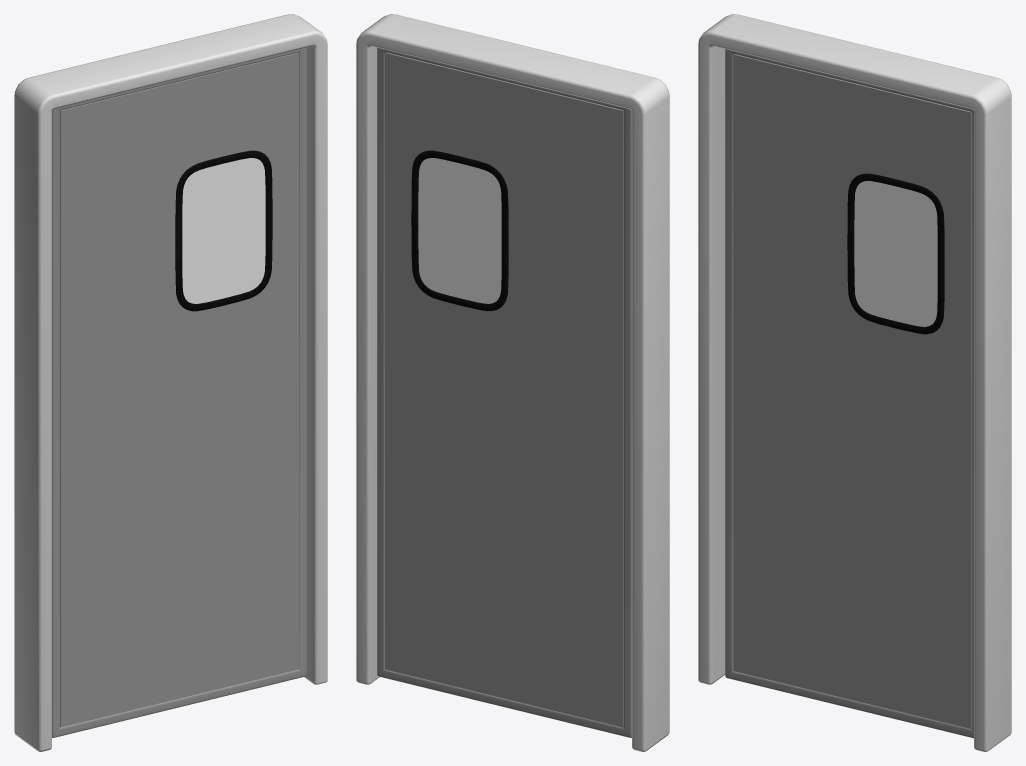
Rendered from StockroomDoor_Visual.fbx.
3 renders of one model, left to right at view 1: azimuth 30°, elevation 25°; view 2: azimuth 150°, elevation 25°; view 3: azimuth 330°, elevation 25°, orthographic.
Parts seen in each view (by area): view 1: DoorPanel, DoorFrame; view 2: DoorPanel, DoorFrame; view 3: DoorPanel, DoorFrame.
Part boxes in pixels (x1,y1,x2,y2): DoorPanel: (52,47,306,737); DoorFrame: (14,14,327,751); DoorPanel: (377,47,631,737); DoorFrame: (356,14,669,751); DoorPanel: (725,49,973,738); DoorFrame: (698,14,1011,751).
Bounding box in the file's own units: 110 × 237 × 17.18.
3 materials, 2 textured.
